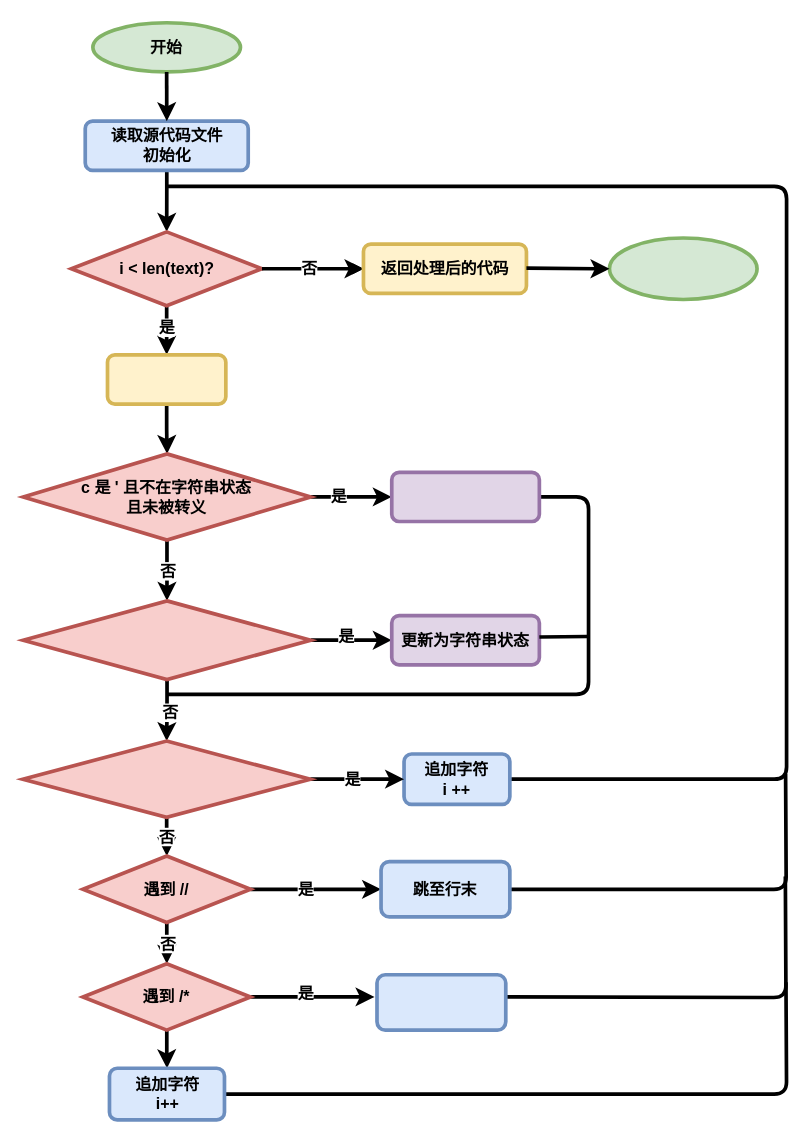
The diagram is 811 pixels wide and 1143 high, and some of its shapes have lost their labels. The centre of each missing label's shape, as x and y in pixels:
c 是 '' 且不在字符状态 且未被转义: point 166,639
当前处于字符状态或者 字符串状态: point 166,779
更新为字符状态: point 465,496
结束: point 682,268
读取字符 c: point 166,378
跳过直到匹配 */: point 441,1001
